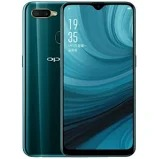oppo: (56, 1, 137, 158)
